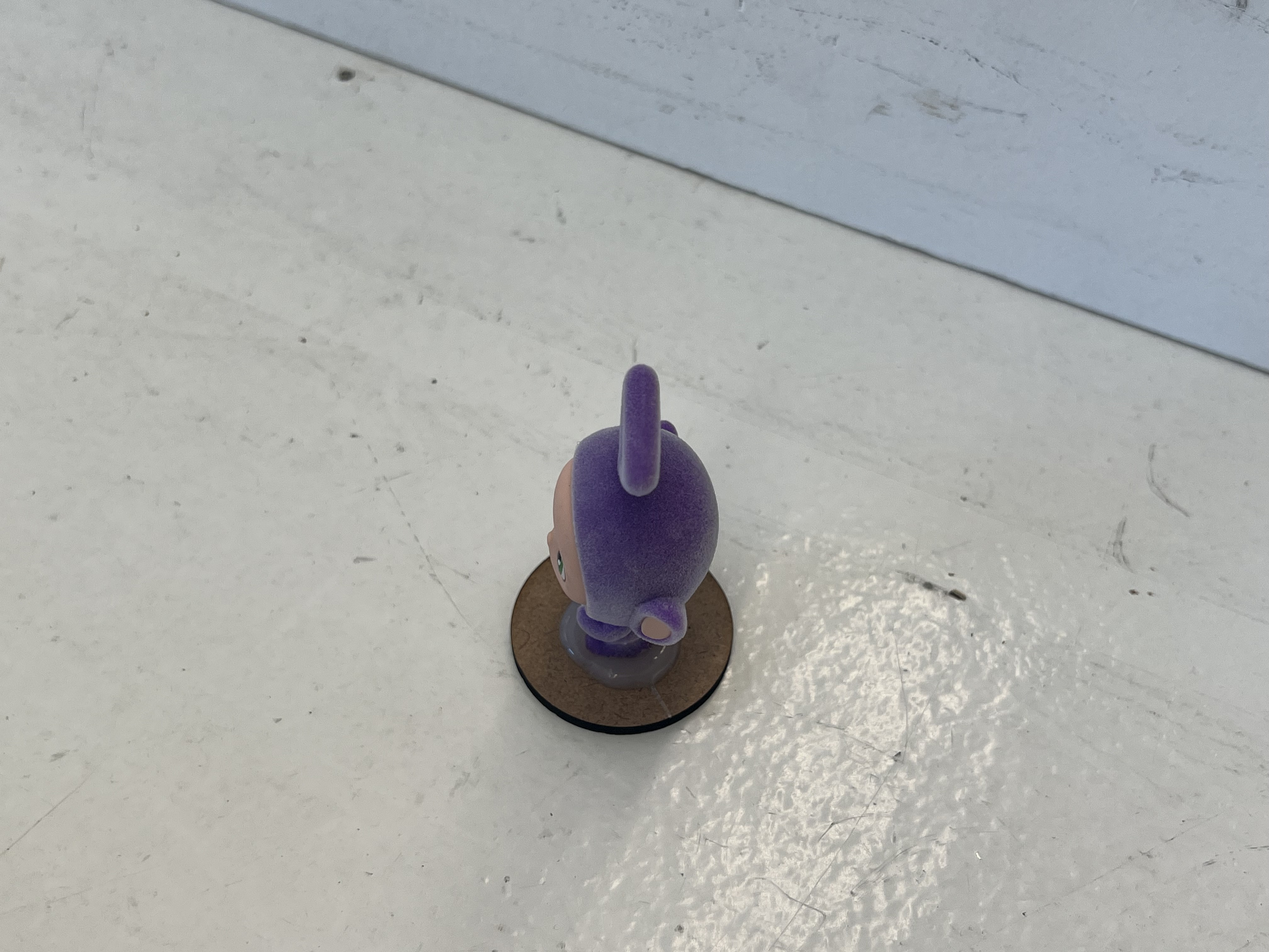teletubby: (548, 364, 719, 658)
